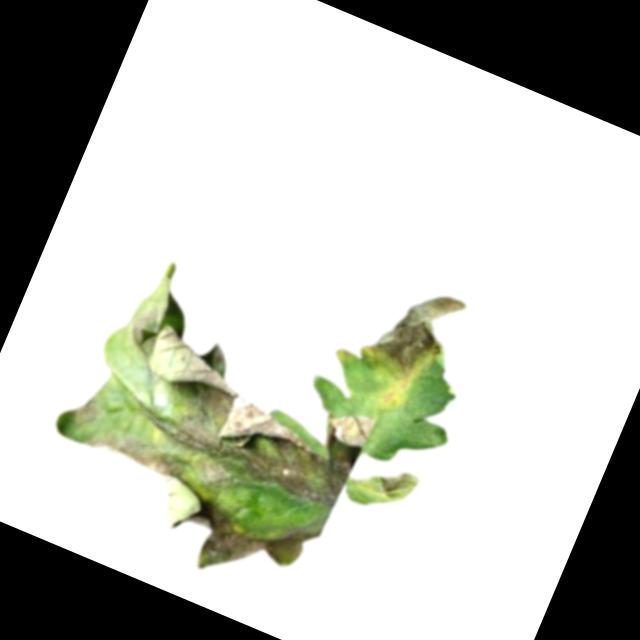Late_blight: (134, 349, 367, 536), (157, 479, 318, 605), (357, 273, 473, 399), (80, 423, 190, 499), (313, 405, 375, 471), (369, 461, 422, 509), (65, 394, 102, 432)
